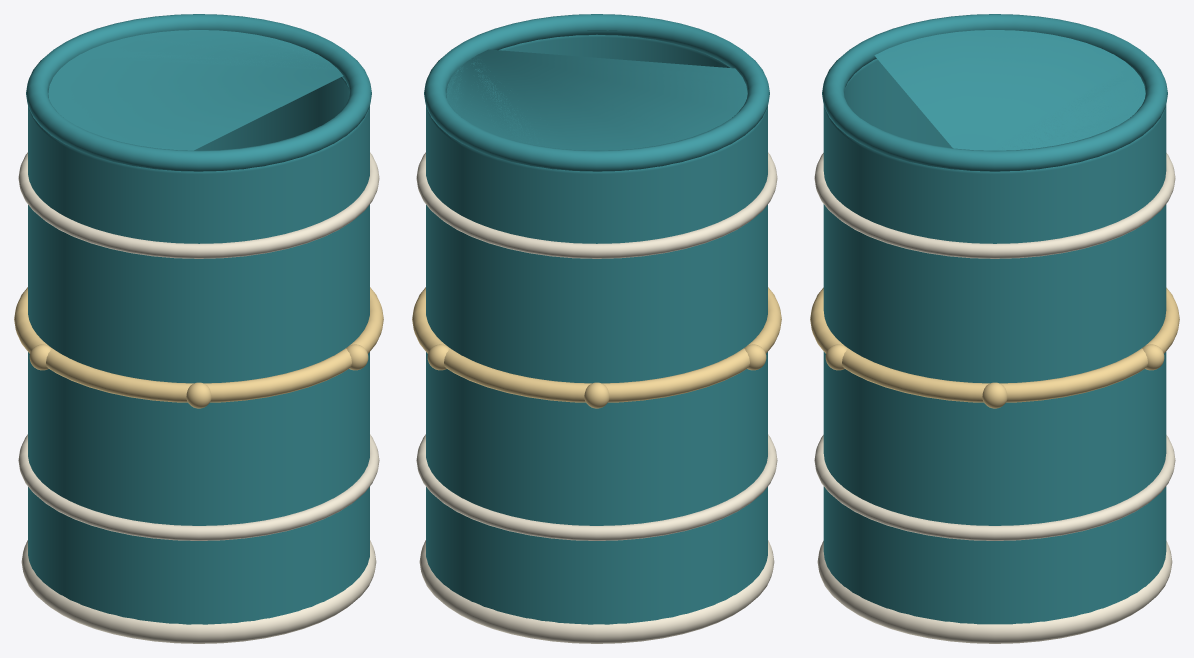
The model's file is tool_crock.gltf.
3 views of the same model, side by side, from view 1: azimuth 30°, elevation 25°; view 2: azimuth 150°, elevation 25°; view 3: azimuth 270°, elevation 25° (orthographic).
Parts seen in each view (by area): view 1: Body.001, Lip, Collar.001, Foot, Band0.140, Band0.040, Stud4; view 2: Body.001, Lip, Collar.001, Foot, Band0.140, Band0.040, Stud2; view 3: Body.001, Lip, Collar.001, Foot, Band0.140, Band0.040, Stud0.
Boxes of the visible parts, x1,y1,x2,y2 form: Body.001: (28, 30, 369, 624); Lip: (26, 14, 371, 171); Collar.001: (14, 287, 383, 402); Foot: (21, 540, 376, 643); Band0.140: (18, 152, 379, 258); Band0.040: (18, 434, 379, 540); Stud4: (186, 382, 211, 408); Body.001: (426, 30, 767, 624); Lip: (424, 14, 769, 171); Collar.001: (412, 287, 781, 402); Foot: (419, 540, 774, 643); Band0.140: (416, 152, 777, 258); Band0.040: (416, 434, 777, 540); Stud2: (584, 382, 609, 408); Body.001: (823, 30, 1166, 624); Lip: (822, 14, 1167, 171); Collar.001: (810, 287, 1179, 402); Foot: (817, 541, 1172, 643); Band0.140: (814, 153, 1175, 258); Band0.040: (814, 435, 1175, 540); Stud0: (982, 382, 1007, 408).
Bounding box in the file's own units: 0.1244 × 0.1736 × 0.1188.
